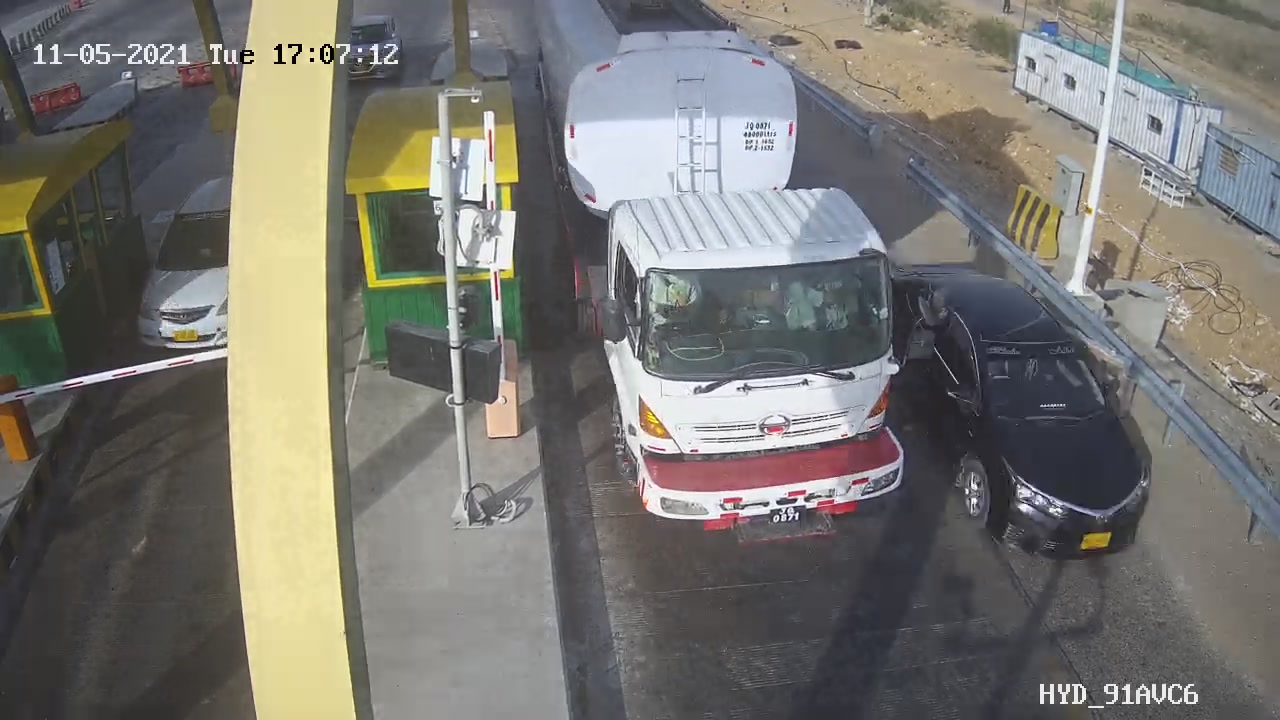F6: (518, 4, 960, 570)
